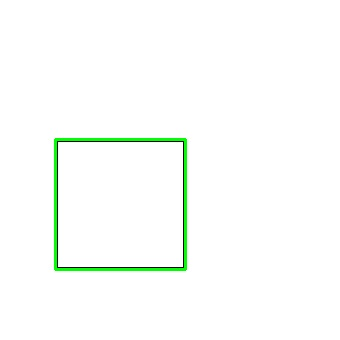line_segment: (54, 138, 187, 271)
